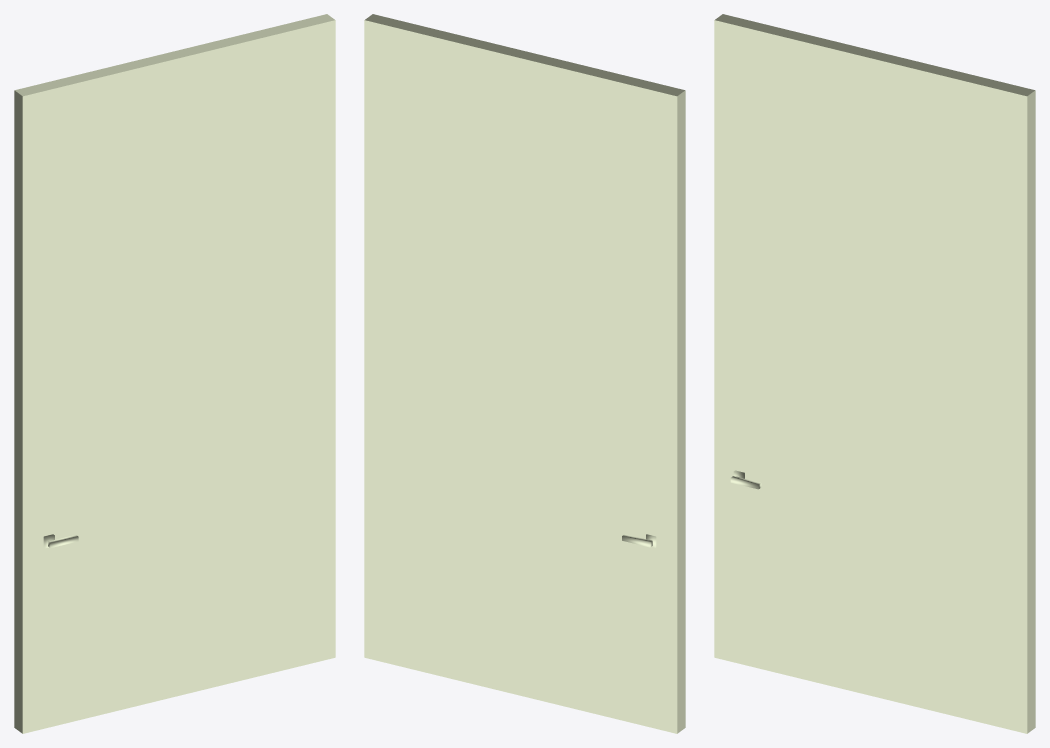
The model's file is hotl_door_big.FBX.
The picture shows the model from 3 angles, left to right: view 1: azimuth 30°, elevation 25°; view 2: azimuth 150°, elevation 25°; view 3: azimuth 330°, elevation 25°; orthographic projection.
Parts seen in each view (by area): view 1: door_big; view 2: door_big; view 3: door_big.
Boxes of the visible parts, x1,y1,x2,y2 form: door_big: (14,14,335,733); door_big: (364,14,685,733); door_big: (714,14,1035,733).
Size of the model in its own units: 1.78 by 3.47 by 0.1896.
